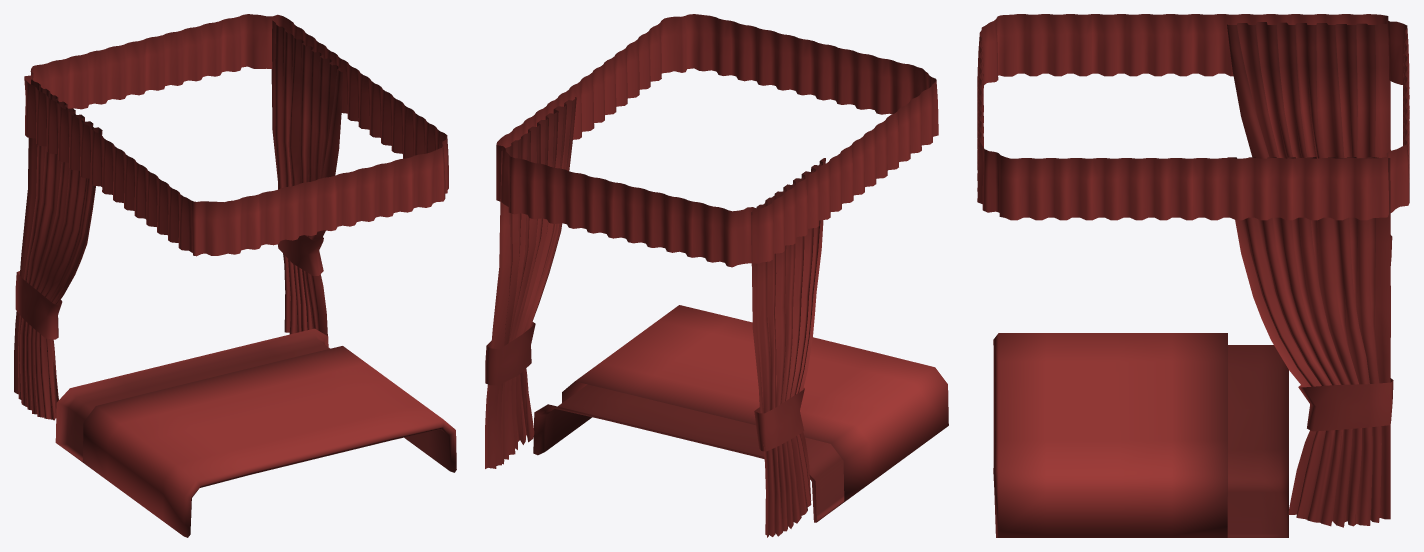
3 renders of one model, left to right at view 1: azimuth 30°, elevation 25°; view 2: azimuth 150°, elevation 25°; view 3: azimuth 270°, elevation 25°, orthographic. The views are drawn at different scales.
Parts seen in each view (by area): view 1: DblSided.001; view 2: DblSided.001; view 3: DblSided.001.
Part boxes in pixels (left/top/right/bottom): DblSided.001: left=14, top=14, right=456, bottom=537; DblSided.001: left=485, top=14, right=948, bottom=537; DblSided.001: left=977, top=14, right=1409, bottom=537.
Size of the model in its own units: 0.4242 by 0.4834 by 0.5.
